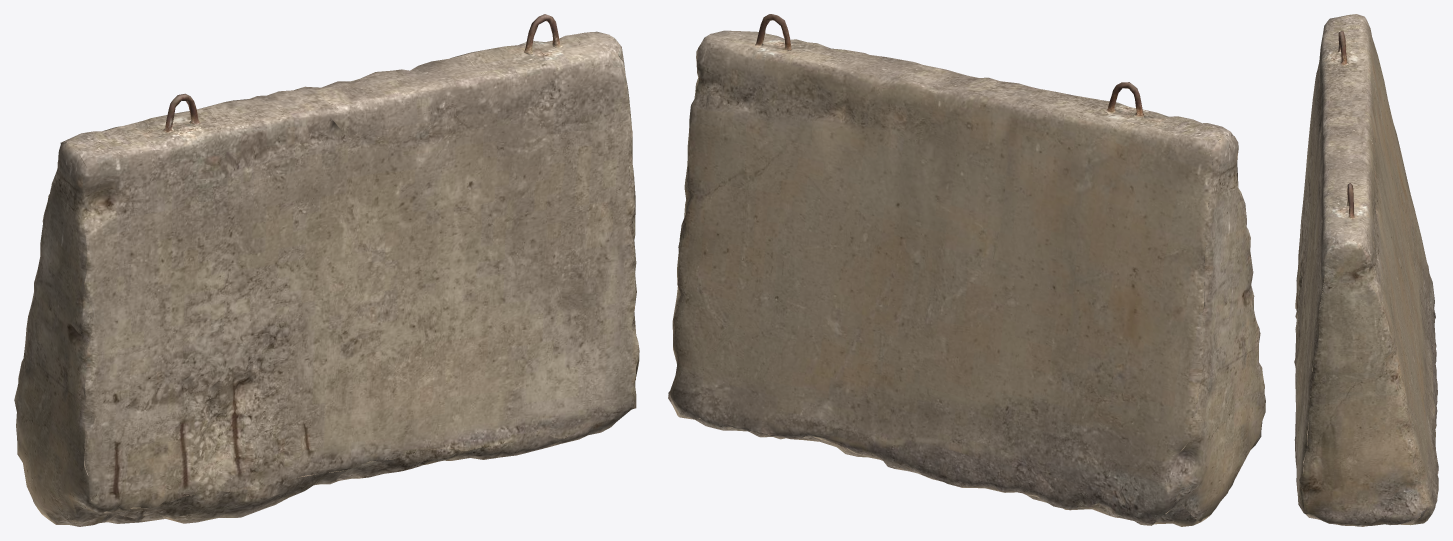
The model's file is jersey_barrier_plain.glb.
3 views of the same model, side by side, from view 1: azimuth 30°, elevation 25°; view 2: azimuth 150°, elevation 25°; view 3: azimuth 270°, elevation 25° (orthographic). The views are drawn at different scales.
Parts seen in each view (by area): view 1: jersey_barrier_plain; view 2: jersey_barrier_plain; view 3: jersey_barrier_plain.
Boxes of the visible parts, bbox=[...] form: jersey_barrier_plain: bbox=[14, 14, 639, 526]; jersey_barrier_plain: bbox=[668, 14, 1265, 526]; jersey_barrier_plain: bbox=[1294, 14, 1438, 526].
Size of the model in its own units: 1.56 by 1.11 by 0.4391.
1 material, 1 textured.
